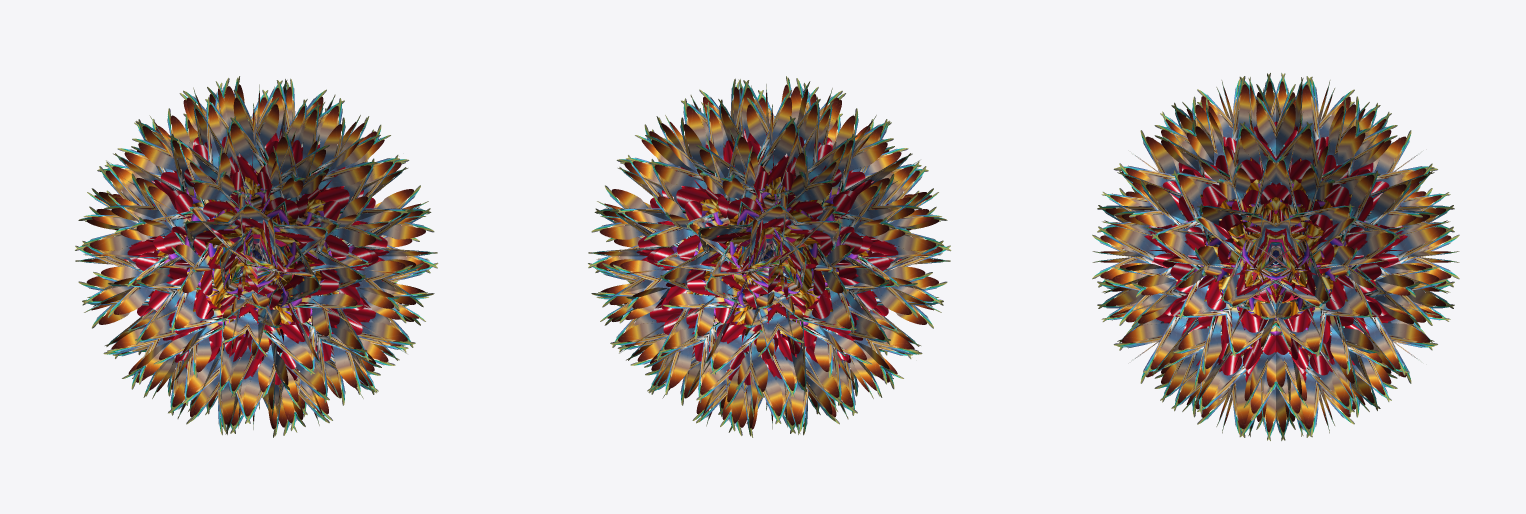
Rendered from 32GreatDirhombicosidodecahedron.gltf.
3 renders of one model, left to right at view 1: azimuth 30°, elevation 25°; view 2: azimuth 150°, elevation 25°; view 3: azimuth 270°, elevation 25°, orthographic. The views are drawn at different scales.
Parts seen in each view (by area): view 1: GreatDirhombicosidodecahedron12; view 2: GreatDirhombicosidodecahedron12; view 3: GreatDirhombicosidodecahedron12.
Boxes of the visible parts, x1,y1,x2,y2 form: GreatDirhombicosidodecahedron12: (75,76,438,437); GreatDirhombicosidodecahedron12: (588,76,951,437); GreatDirhombicosidodecahedron12: (1092,73,1459,440).
Bounding box in the file's own units: 1.34 × 1.34 × 1.34.
1 material, 1 textured.
